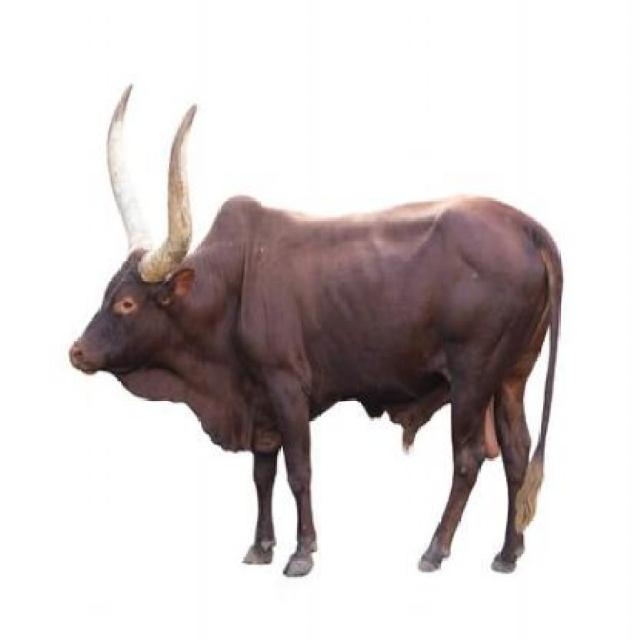Cow: (68, 85, 563, 577)
